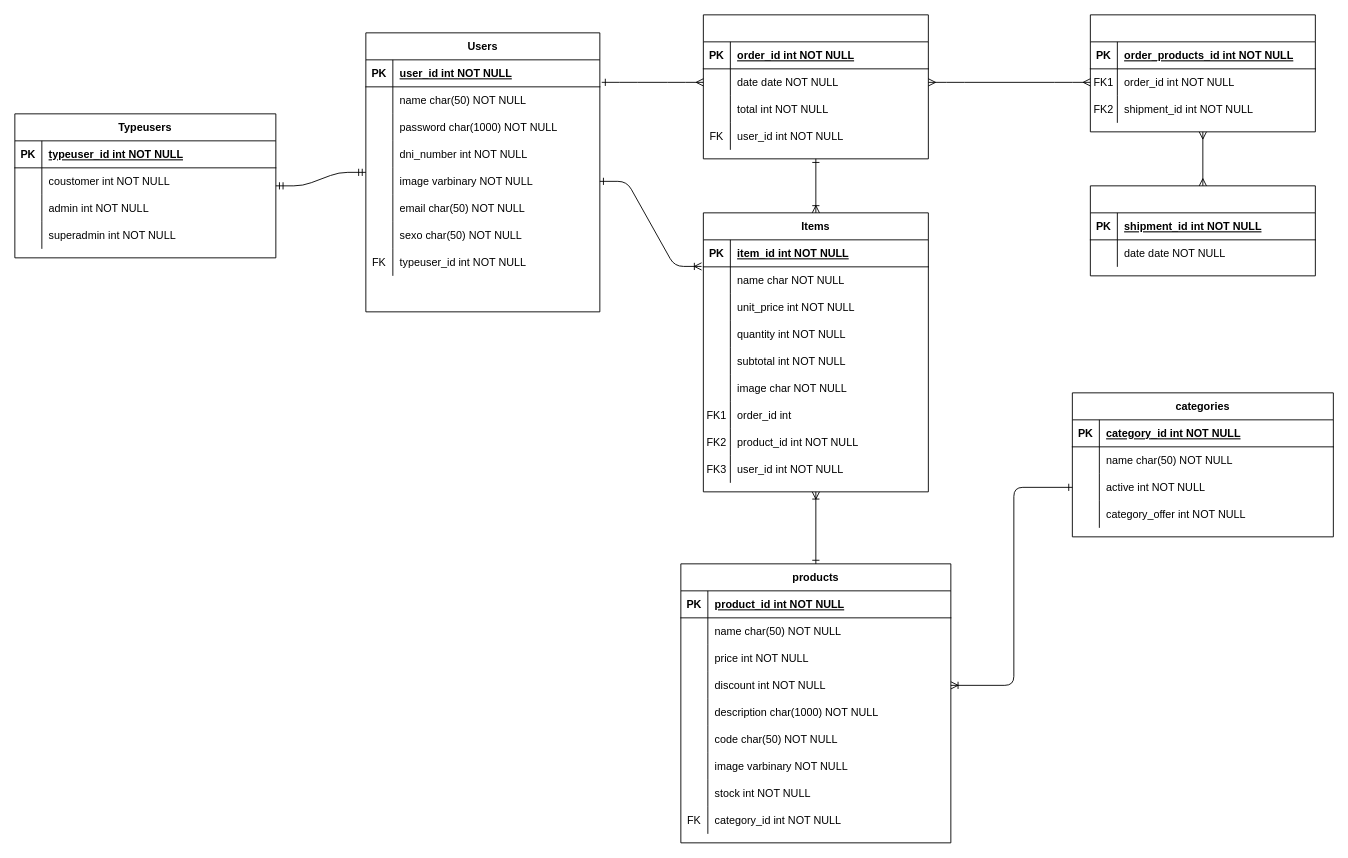
Some shapes in this 1348 by 858 pixel diagram are drawn without their labels. Here are the shapes that lost their labels. From the top down, the box of each, then its label:
(702, 14, 928, 159): Orders
(1089, 14, 1315, 132): Order_Shipment
(1089, 185, 1315, 276): Shipments
